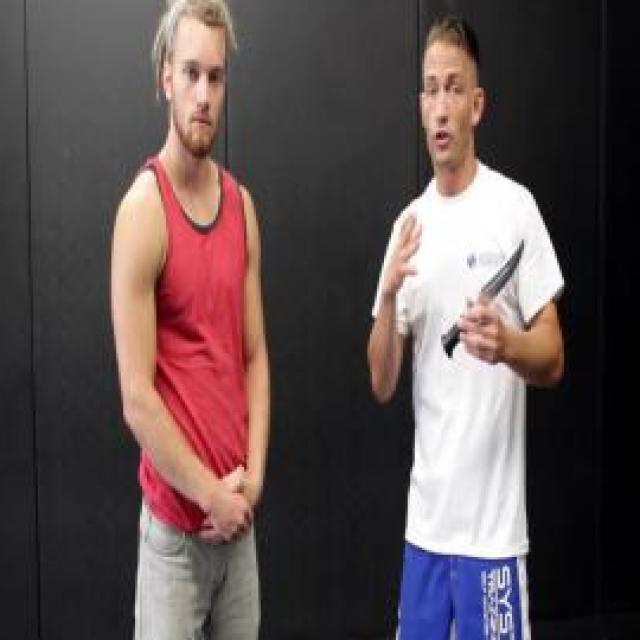knife: (436, 228, 530, 362)
